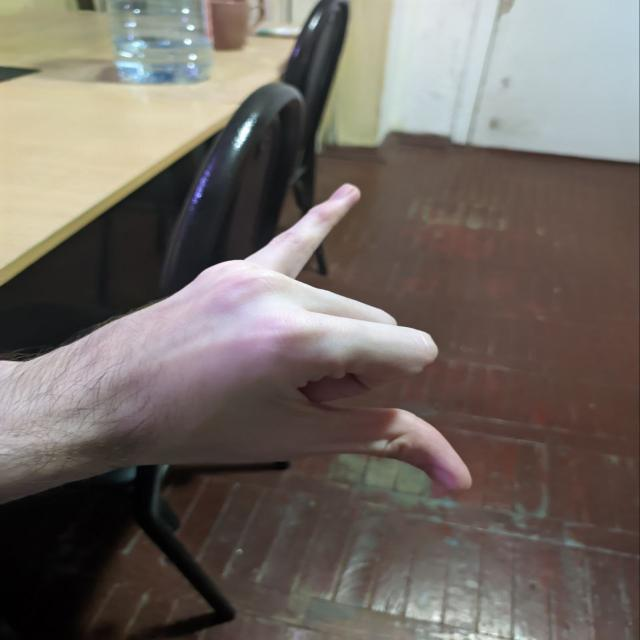u: (188, 177, 536, 523)
